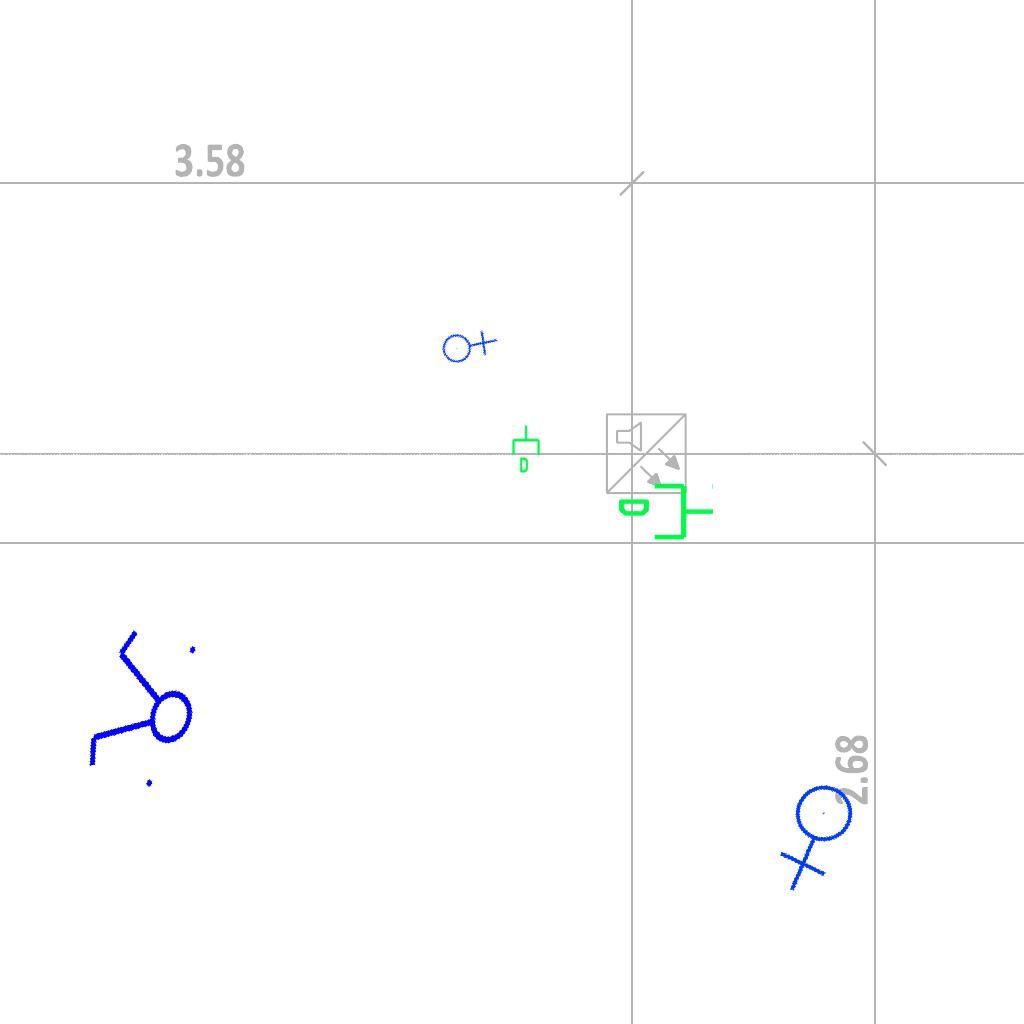Datenanschluss_einfach: (616, 479, 716, 548), (510, 424, 544, 474)
Elektroanschluss_allgemein_230V_Geraeteanschlussdose_230V: (755, 771, 884, 897), (433, 311, 500, 378)
Serienschalter: (74, 615, 218, 805)
